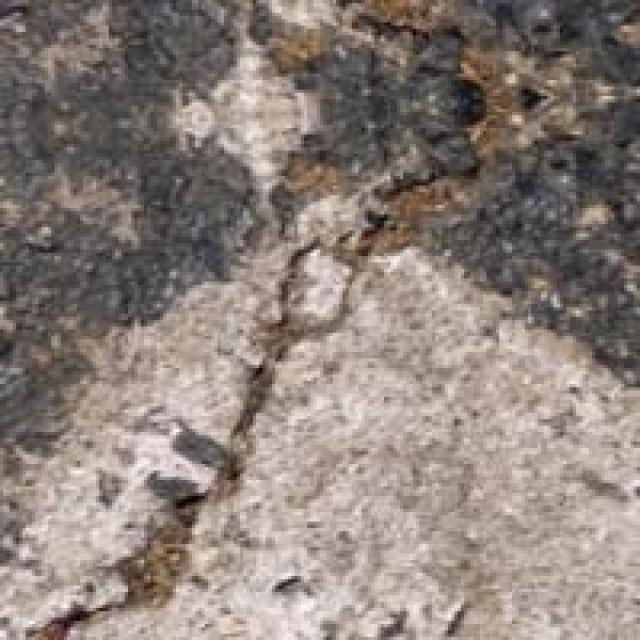crack: (48, 134, 480, 640)
